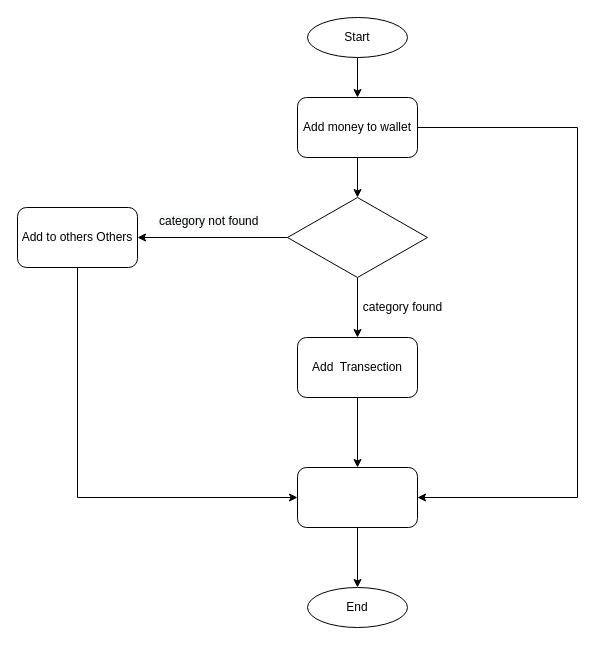
Some shapes in this 603 by 645 pixel diagram are drawn without their labels. The shapes that lost their labels are listed below. From the top down, each one's centre as x and y in pixels, then its label:
At point 357,237: "select category of expenditure".
At point 357,497: "Update wallet balance".
